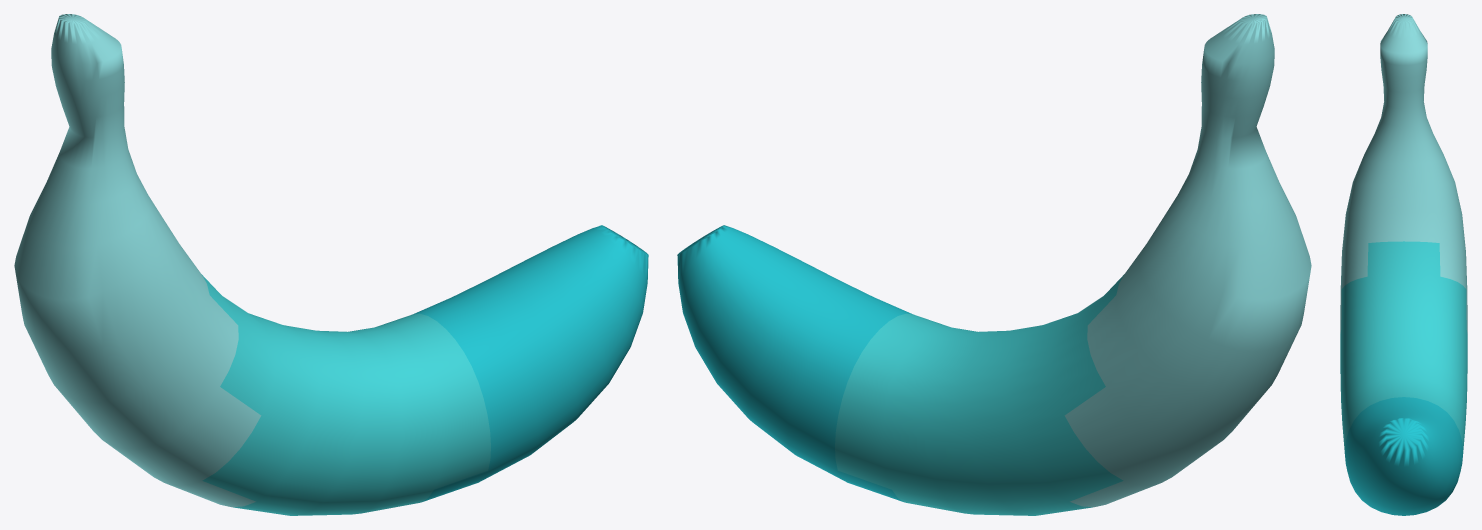
The model's file is Fruit_Freeze_Banana.fbx.
The picture shows the model from 3 angles, left to right: view 1: azimuth 30°, elevation 25°; view 2: azimuth 150°, elevation 25°; view 3: azimuth 270°, elevation 25°; orthographic projection. The views are drawn at different scales.
Visible parts, largest first — view 1: Freeze_Banana; view 2: Freeze_Banana; view 3: Freeze_Banana.
Part boxes in pixels (box(x1,y1,x2,y2)): Freeze_Banana: box(14, 14, 648, 515); Freeze_Banana: box(677, 14, 1311, 515); Freeze_Banana: box(1340, 14, 1467, 515).
Size of the model in its own units: 263 by 227 by 70.72.
